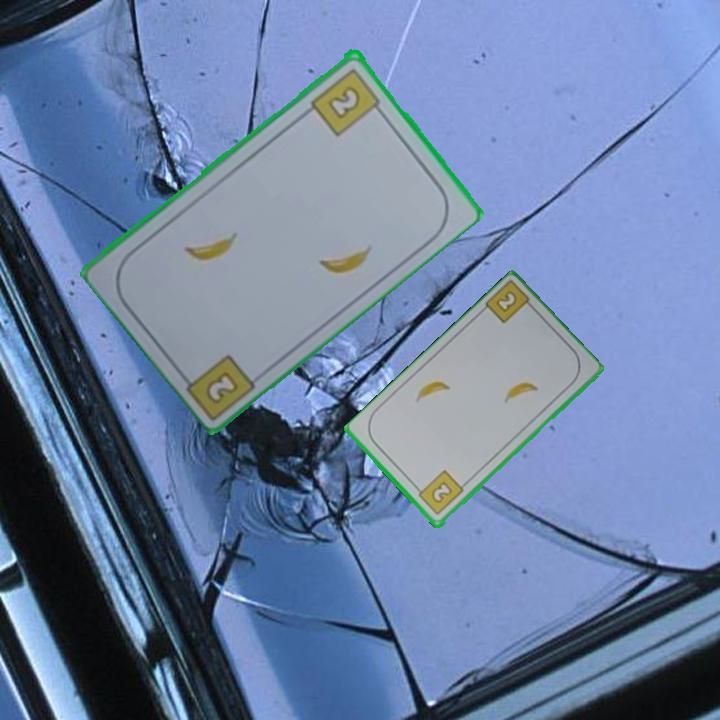2b: (307, 64, 387, 139), (412, 467, 467, 518), (201, 367, 242, 407), (492, 287, 520, 315)
